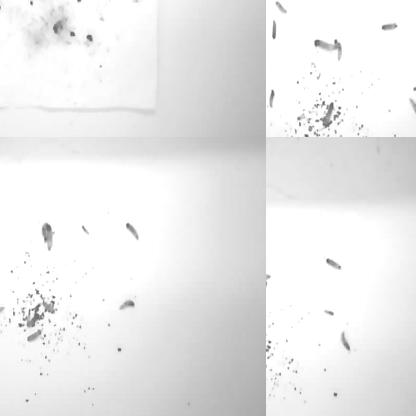PtecticusTenebrifer: (124, 222, 140, 242), (340, 328, 352, 352), (315, 40, 338, 52), (325, 258, 342, 271), (26, 330, 44, 342), (275, 0, 289, 15), (407, 95, 416, 118), (118, 299, 135, 310), (266, 352, 275, 370), (47, 225, 53, 251), (381, 22, 398, 31), (266, 271, 278, 282), (0, 297, 5, 321), (266, 96, 273, 113), (269, 90, 275, 109), (272, 19, 277, 41), (43, 221, 48, 243), (266, 357, 273, 371), (266, 128, 276, 137), (266, 278, 270, 300), (0, 151, 6, 165), (266, 335, 273, 347), (266, 398, 272, 412), (324, 308, 334, 316), (0, 11, 6, 23), (266, 232, 270, 249), (266, 0, 272, 10), (0, 10, 3, 29), (266, 281, 277, 286), (388, 137, 398, 142), (74, 0, 82, 6), (0, 137, 4, 149), (0, 0, 9, 5), (411, 84, 416, 93)
